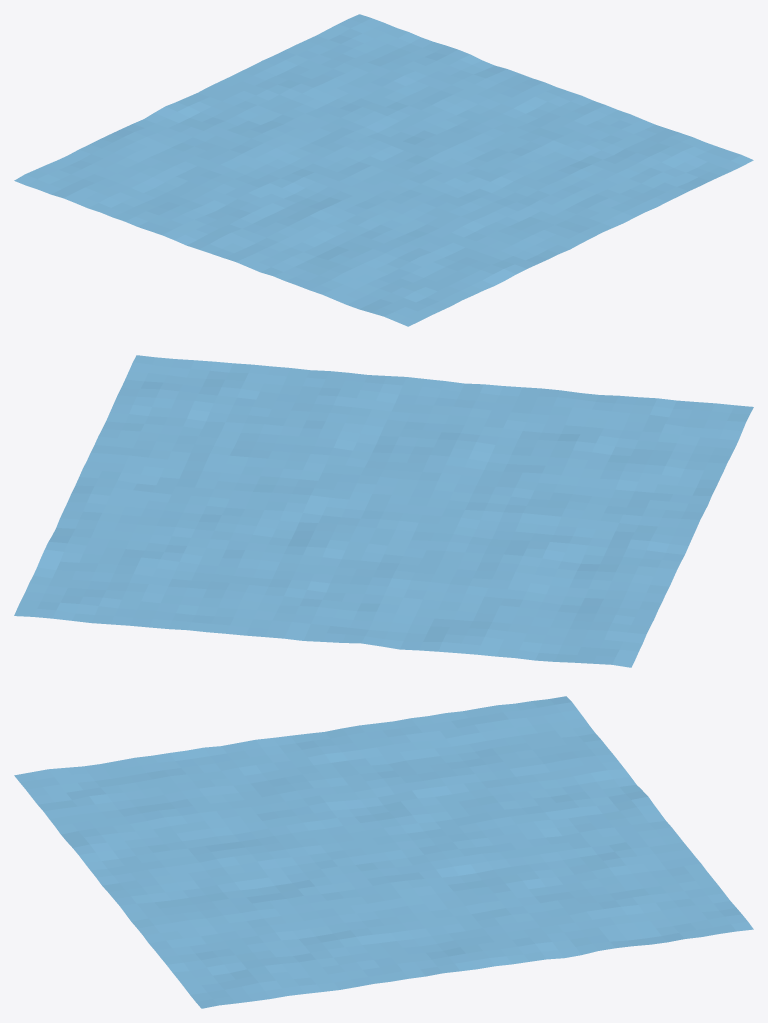
Rendered from lake.glb.
3 views of the same model, one above another, from view 1: azimuth 30°, elevation 25°; view 2: azimuth 150°, elevation 25°; view 3: azimuth 270°, elevation 25° (orthographic). The views are drawn at different scales.
Parts seen in each view (by area): view 1: Plane.001; view 2: Plane.001; view 3: Plane.001.
Boxes of the visible parts, x1,y1,x2,y2 form: Plane.001: [14, 14, 753, 326]; Plane.001: [14, 355, 753, 667]; Plane.001: [14, 696, 753, 1008].
Bounding box in the file's own units: 5.07 × 0.0266 × 5.07.
